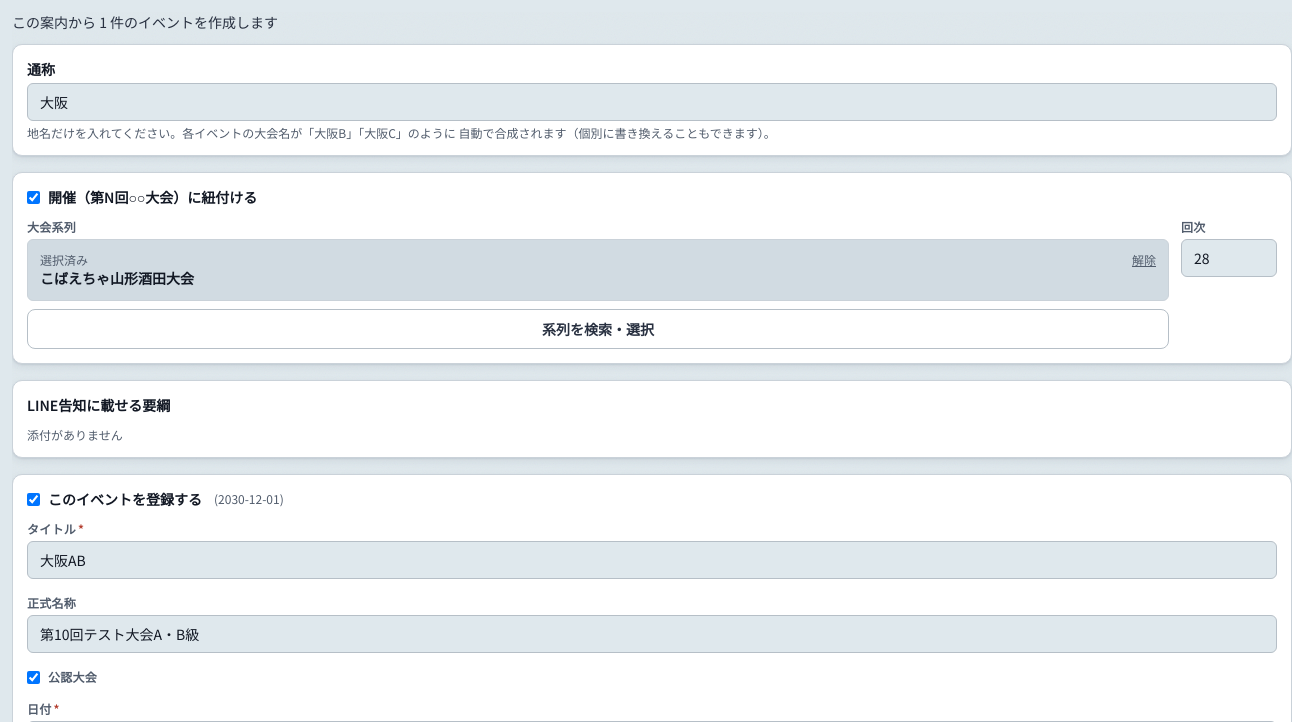
Scenario: ApprovalForm — 複数単位フォーム › 開催(edition)紐付けセクション: 候補を pre-fill し回次ありなら link を ON にする
Expected: the checkbox named "editionLink" is checked, top-left (27, 190), bottom-right (40, 204)
Expected: the element named "editionSeriesId" holds "7", top-left (27, 187), bottom-right (1277, 349)
Click the button "解除".
click(1144, 260)  # box top-left (1132, 252), bottom-right (1156, 268)
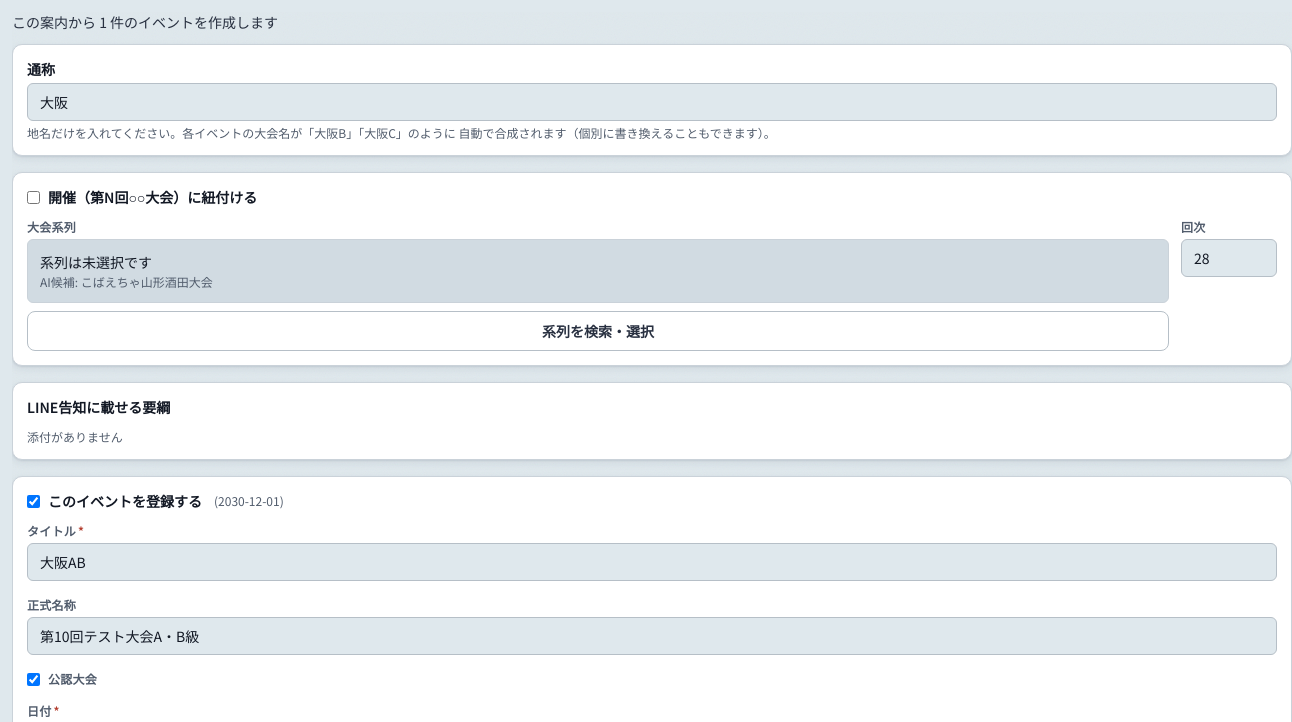
Expected: the element named "editionSeriesId" is empty, top-left (27, 187), bottom-right (1277, 351)
Expected: the checkbox named "editionLink" is not checked, top-left (27, 190), bottom-right (40, 204)
